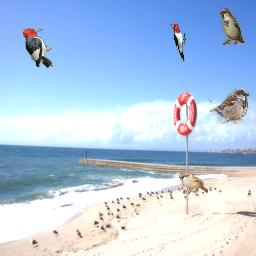Sparrow: (210, 88, 250, 124), (220, 8, 245, 45), (179, 173, 208, 194)
Woodpecker: (23, 28, 53, 68), (170, 23, 186, 63)
